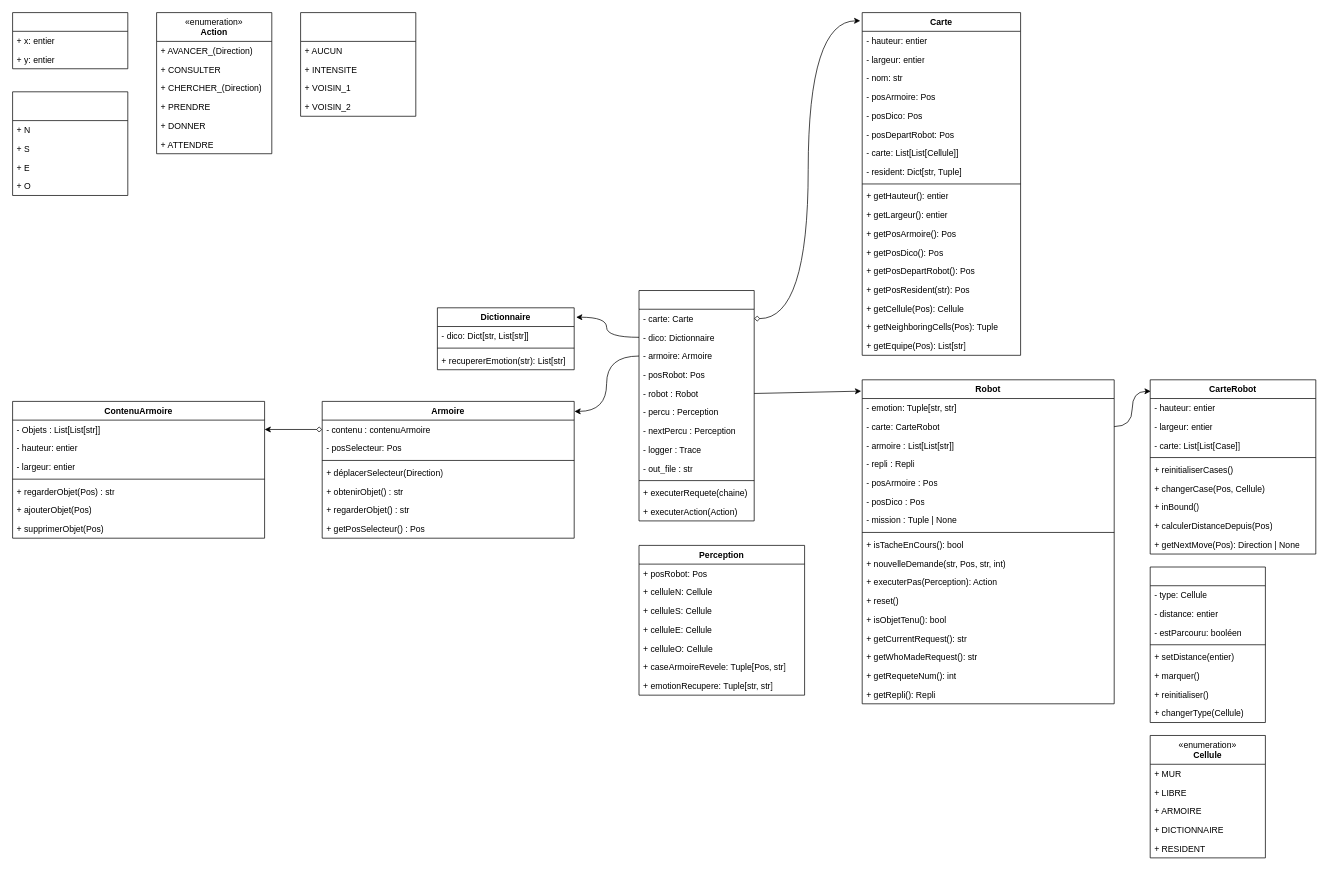
Image size: 1328x873. Some labels were removed from this diagram. The box of each missing label's shape, as (x1, y1, x2, y2) in pixels:
Case: (1149, 566, 1265, 723)
Monde: (638, 290, 754, 521)
Pos: (12, 12, 128, 69)
«enumeration» Direction: (12, 91, 128, 195)
«enumeration» Repli: (300, 12, 416, 116)
